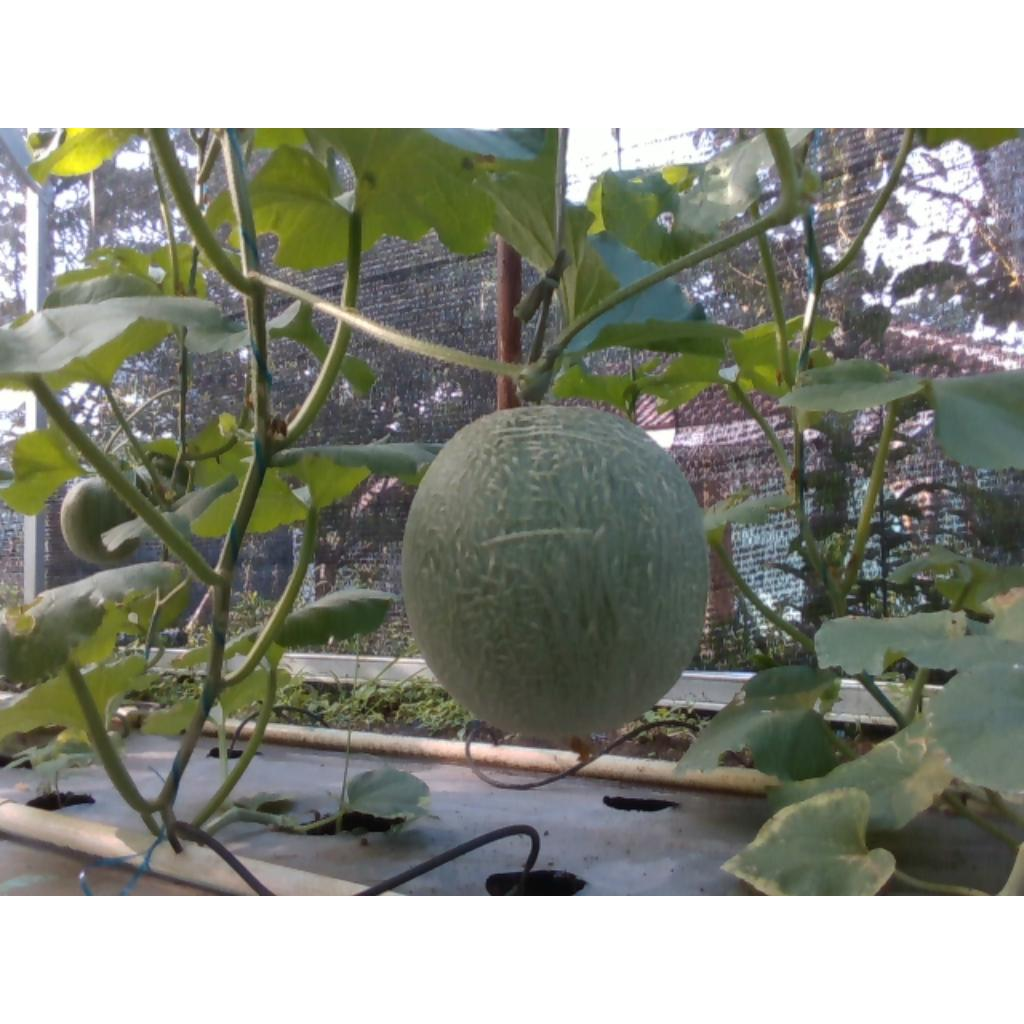melon: (403, 408, 707, 737)
